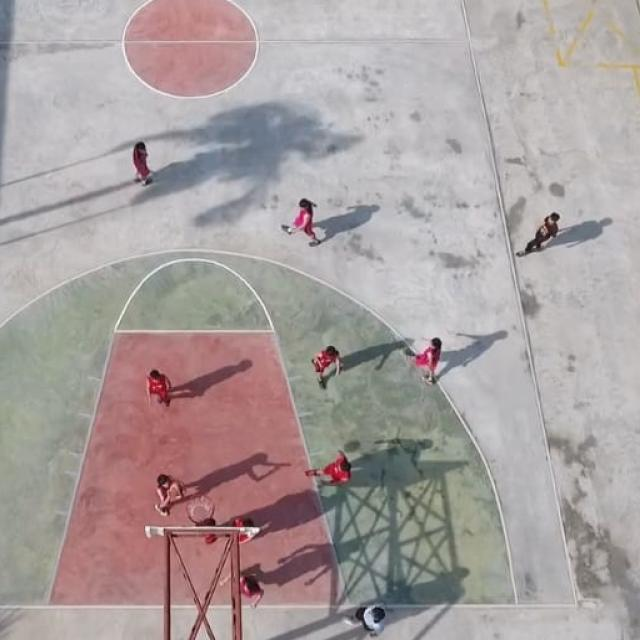humans: (396, 334, 450, 388), (514, 210, 563, 264), (280, 198, 328, 248), (303, 452, 356, 497), (149, 464, 187, 520), (139, 364, 179, 415), (347, 596, 393, 640), (308, 339, 344, 388), (226, 568, 270, 608), (128, 138, 158, 193), (224, 513, 258, 541)
